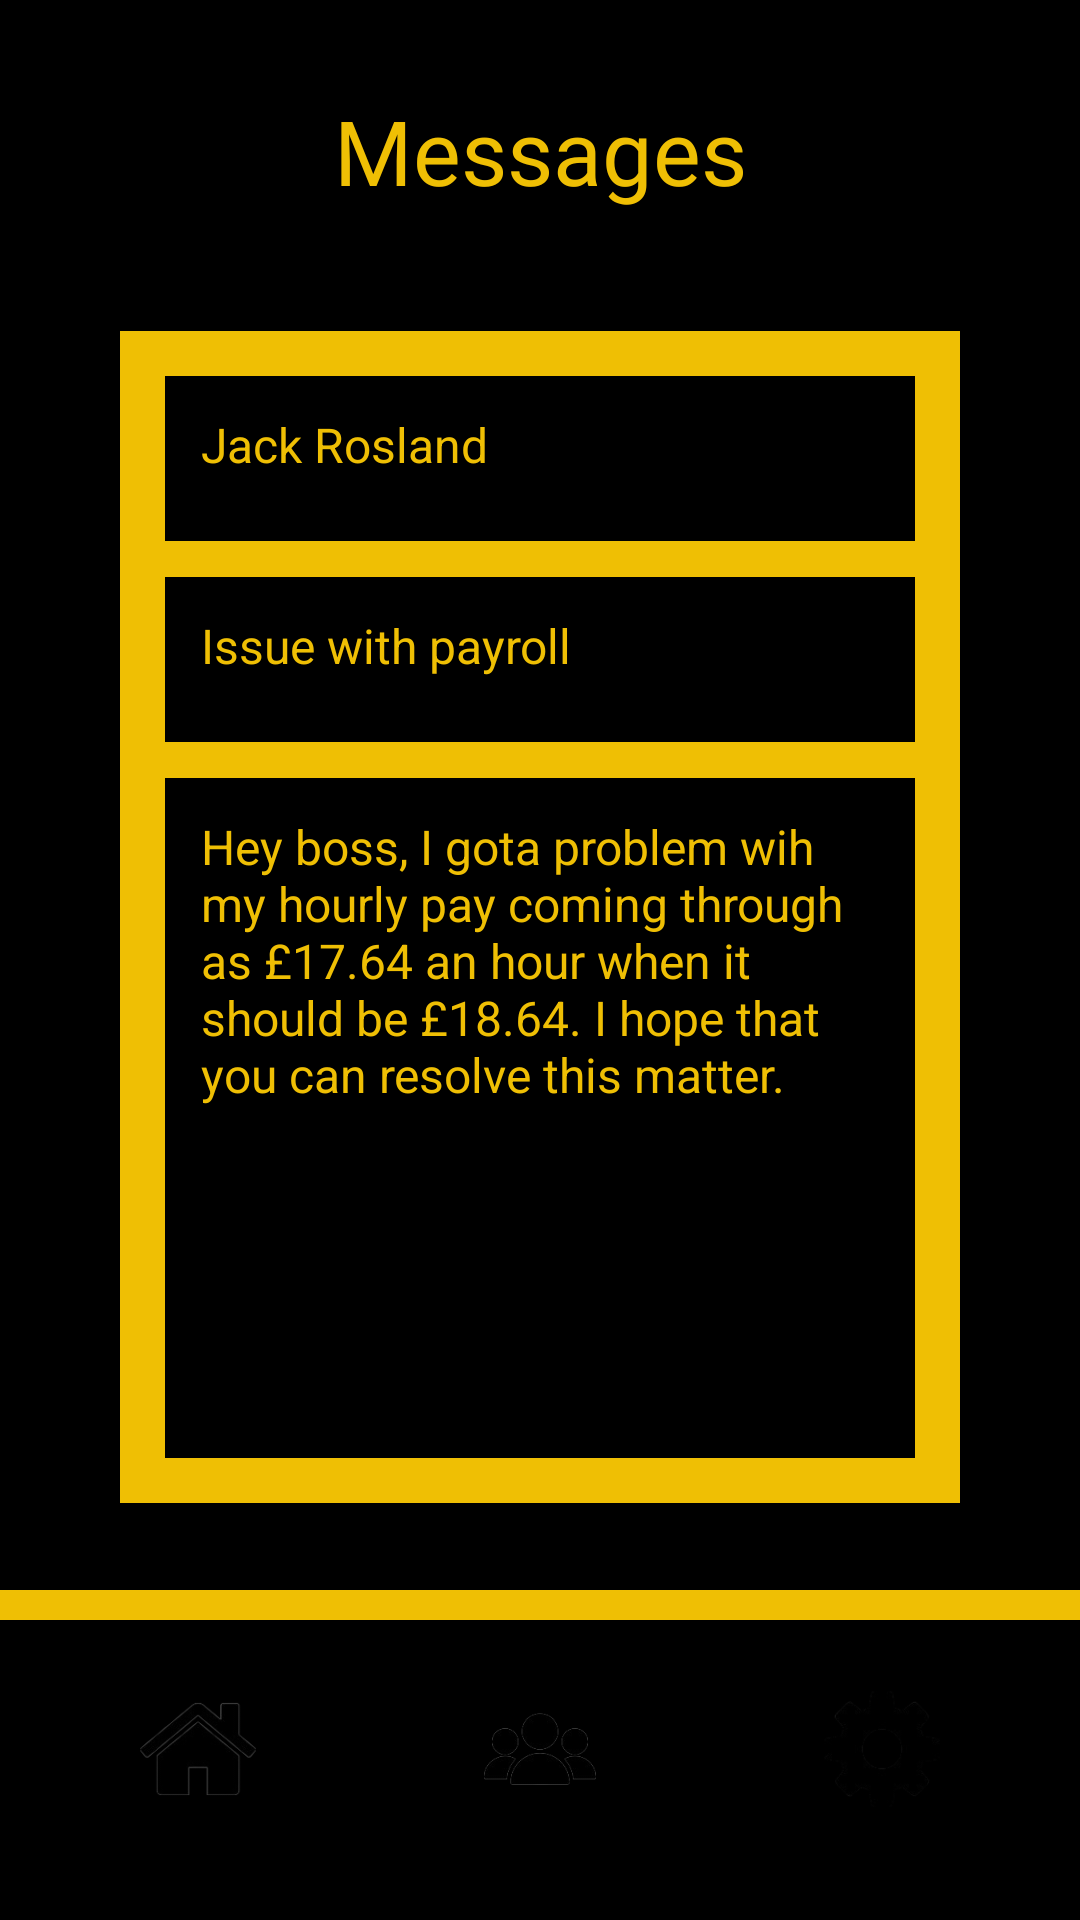

Point at icon controls on the screen. Image size 1080w x 1920h, points as (x=x, y=y).
house: (x=198, y=1749)
staff: (x=540, y=1749)
